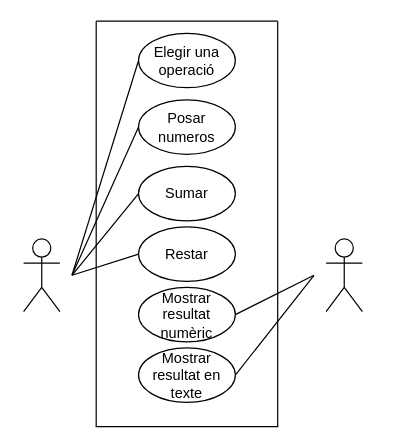
Some shapes in this 397 by 448 pixel diagram are drawn without their labels. The shapes that lost their labels are listed below. From the top down, each one's centre as x and y in pixels, then its label:
At (x=41, y=275): "Usuari".
At (x=343, y=275): "Programa".
